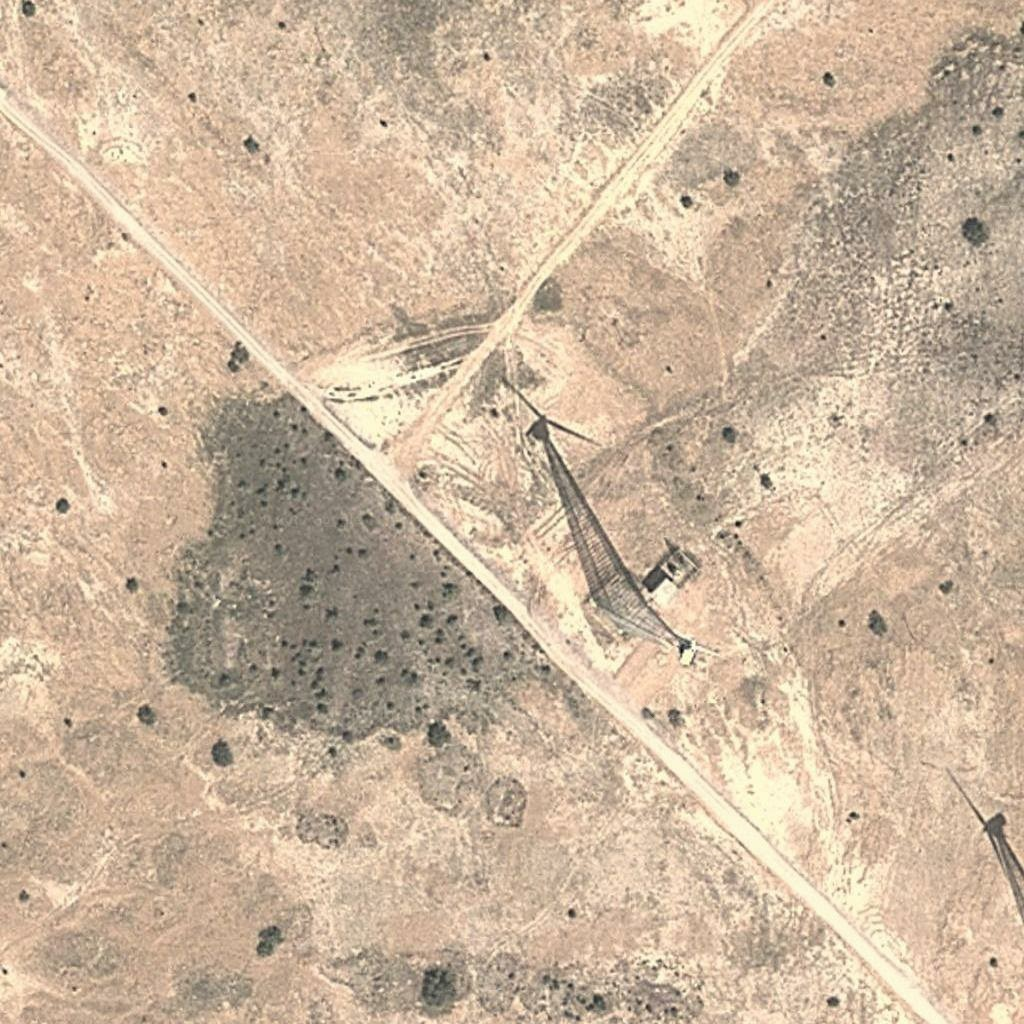Windmill: (500, 375, 647, 590)
